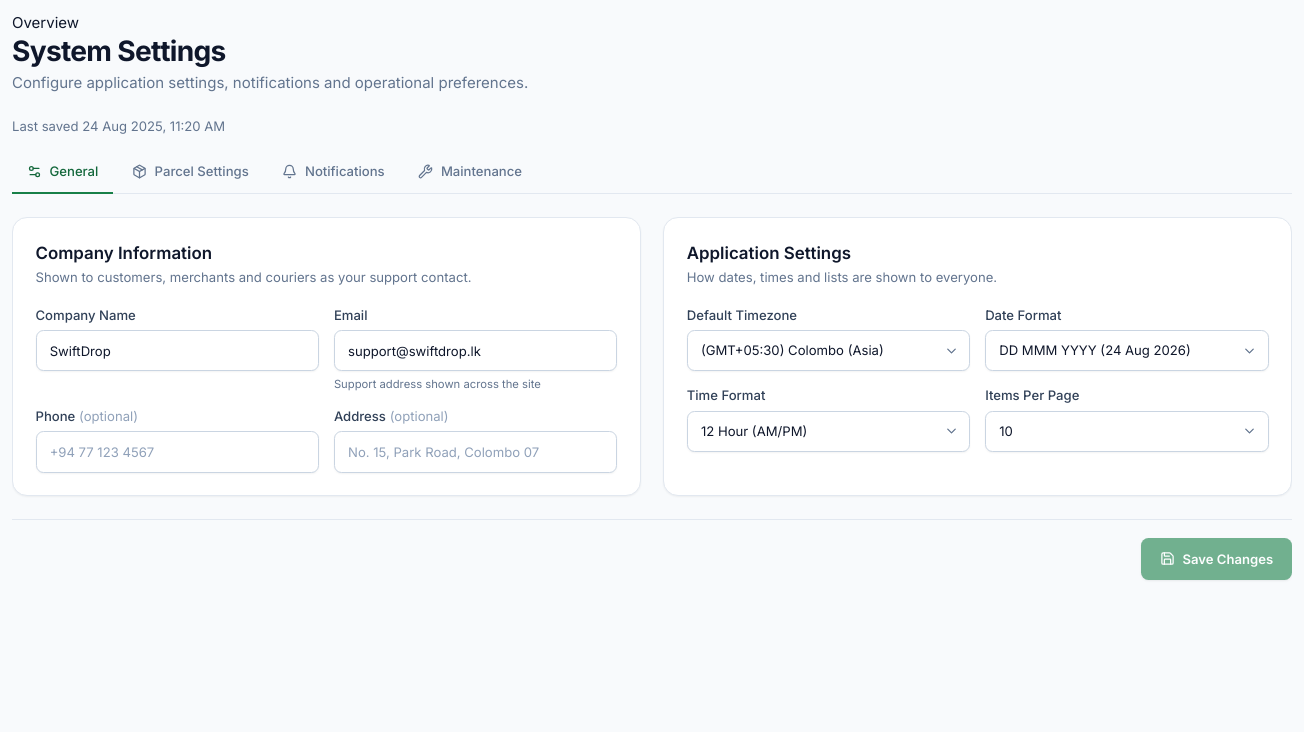
SystemSettingsPage › explains when someone else saved first and reloads on request
Check: the tab "General" is shown, box [12,151,113,194]
Type " Ltd" into the field labelled "Company Name" at (177, 351), box [36,330,319,371]
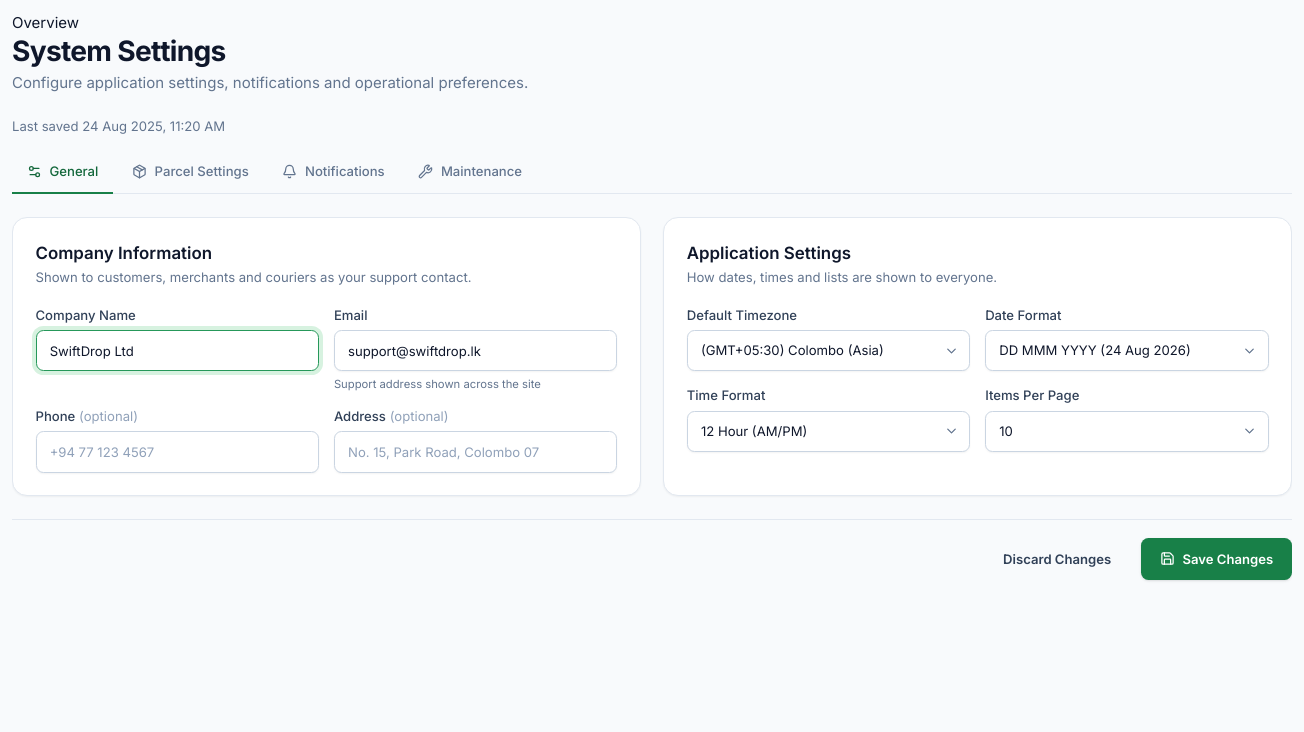
Click the button "Save Changes" at (1217, 559), box [1141,538,1292,580]
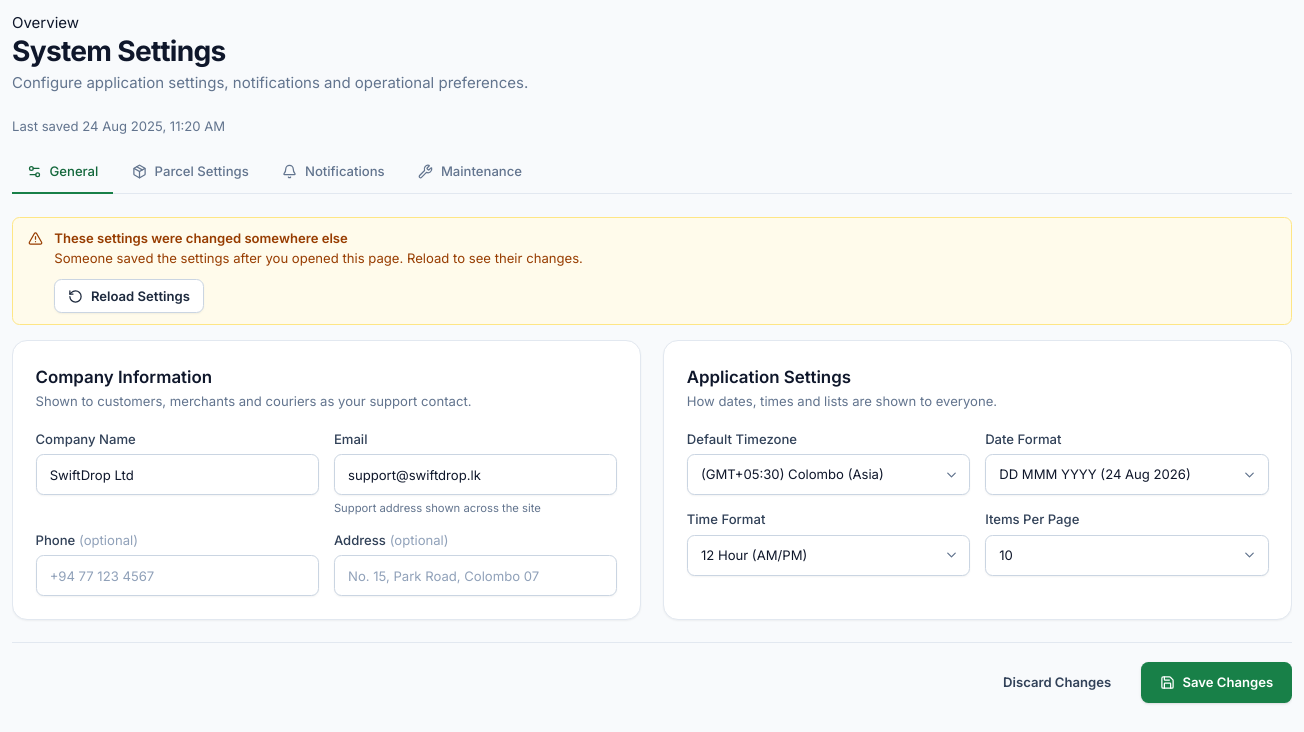
Check: the text "These settings were changed somewhere else" is shown, box [54,230,348,246]
Click the button "Reload Settings" at (129, 296), box [54,279,204,313]
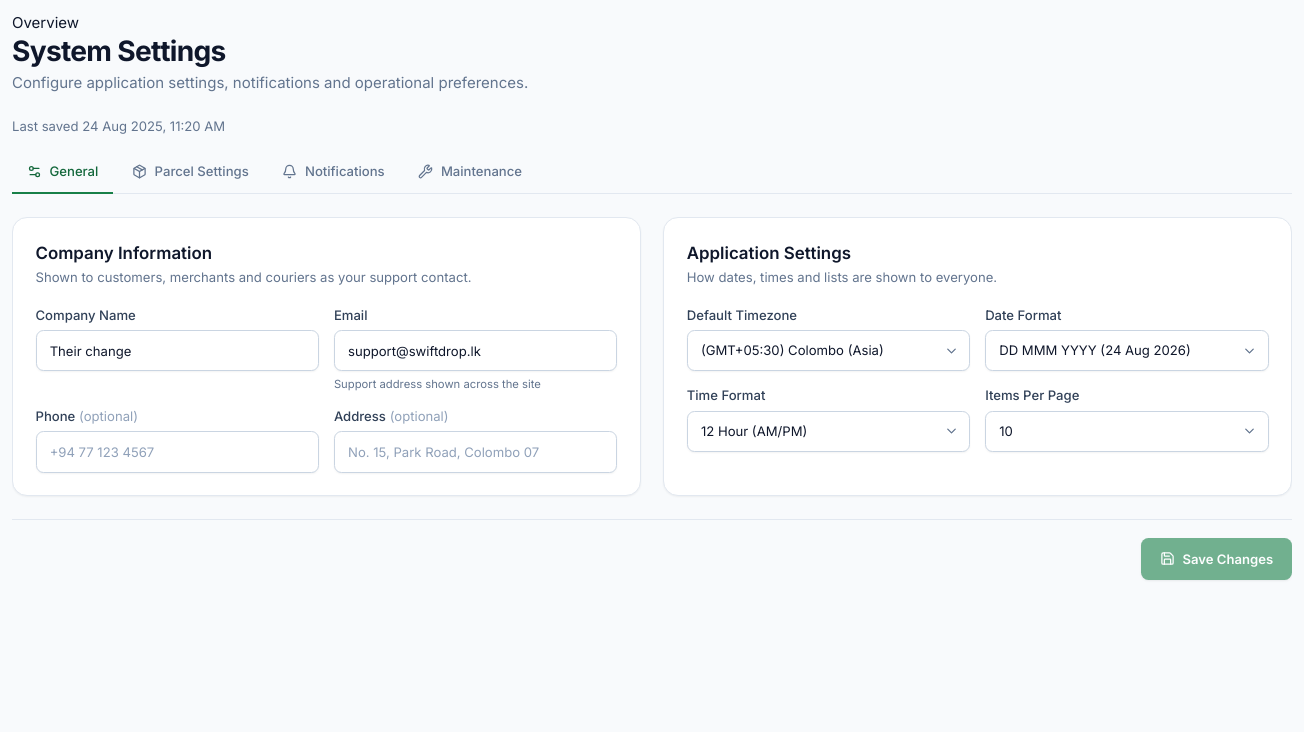
Check: the field showing "Their change" is shown, box [36,330,319,371]
